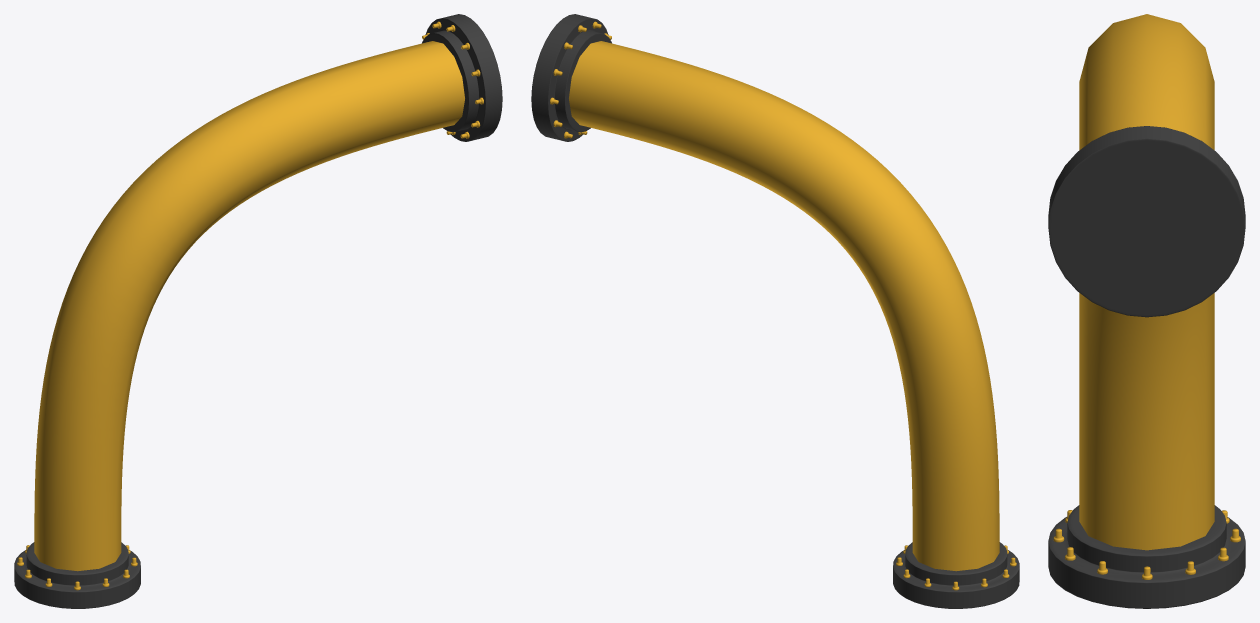
File: PipeSmallAngle.fbx
The picture shows the model from 3 angles, left to right: view 1: azimuth 30°, elevation 25°; view 2: azimuth 150°, elevation 25°; view 3: azimuth 270°, elevation 25°; orthographic projection. The views are drawn at different scales.
Parts seen in each view (by area): view 1: PipeOut1, GiunzioneOut1_2, GiunzioneOut1_1; view 2: PipeOut1, GiunzioneOut1_2, GiunzioneOut1_1; view 3: PipeOut1, GiunzioneOut1_2, GiunzioneOut1_1.
Boxes of the visible parts, x1=… form: PipeOut1: x1=34, y1=41, x2=464, y2=571; GiunzioneOut1_2: x1=422, y1=14, x2=502, y2=141; GiunzioneOut1_1: x1=14, y1=542, x2=140, y2=608; PipeOut1: x1=569, y1=41, x2=999, y2=571; GiunzioneOut1_2: x1=531, y1=14, x2=611, y2=141; GiunzioneOut1_1: x1=893, y1=542, x2=1019, y2=608; PipeOut1: x1=1079, y1=14, x2=1214, y2=550; GiunzioneOut1_2: x1=1048, y1=126, x2=1245, y2=317; GiunzioneOut1_1: x1=1048, y1=505, x2=1245, y2=608.
Size of the model in its own units: 57.03 by 56.91 by 13.98.
